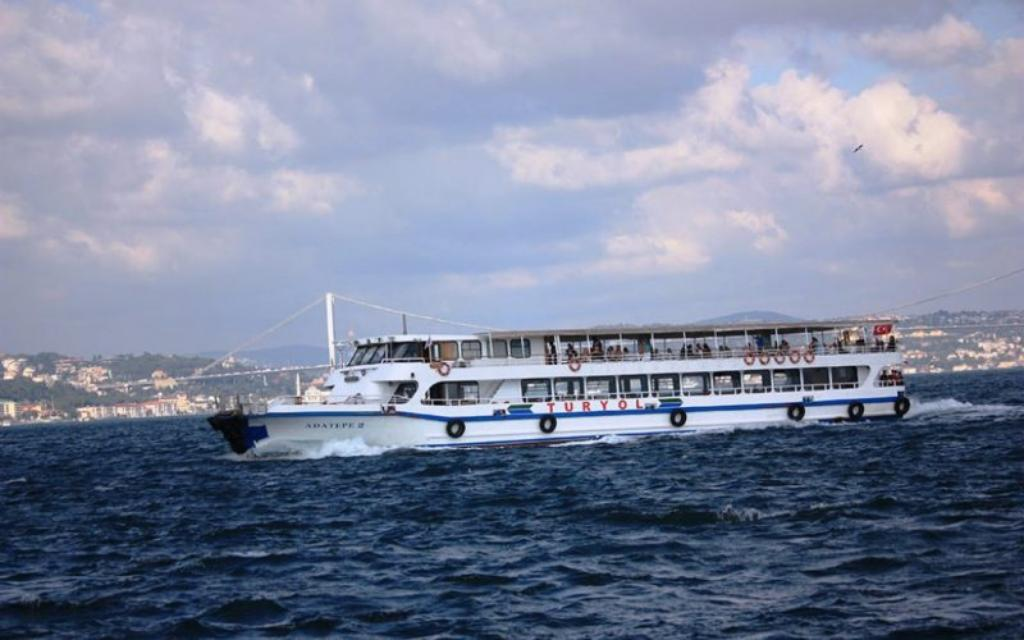PassengerShip: (178, 286, 920, 448)
